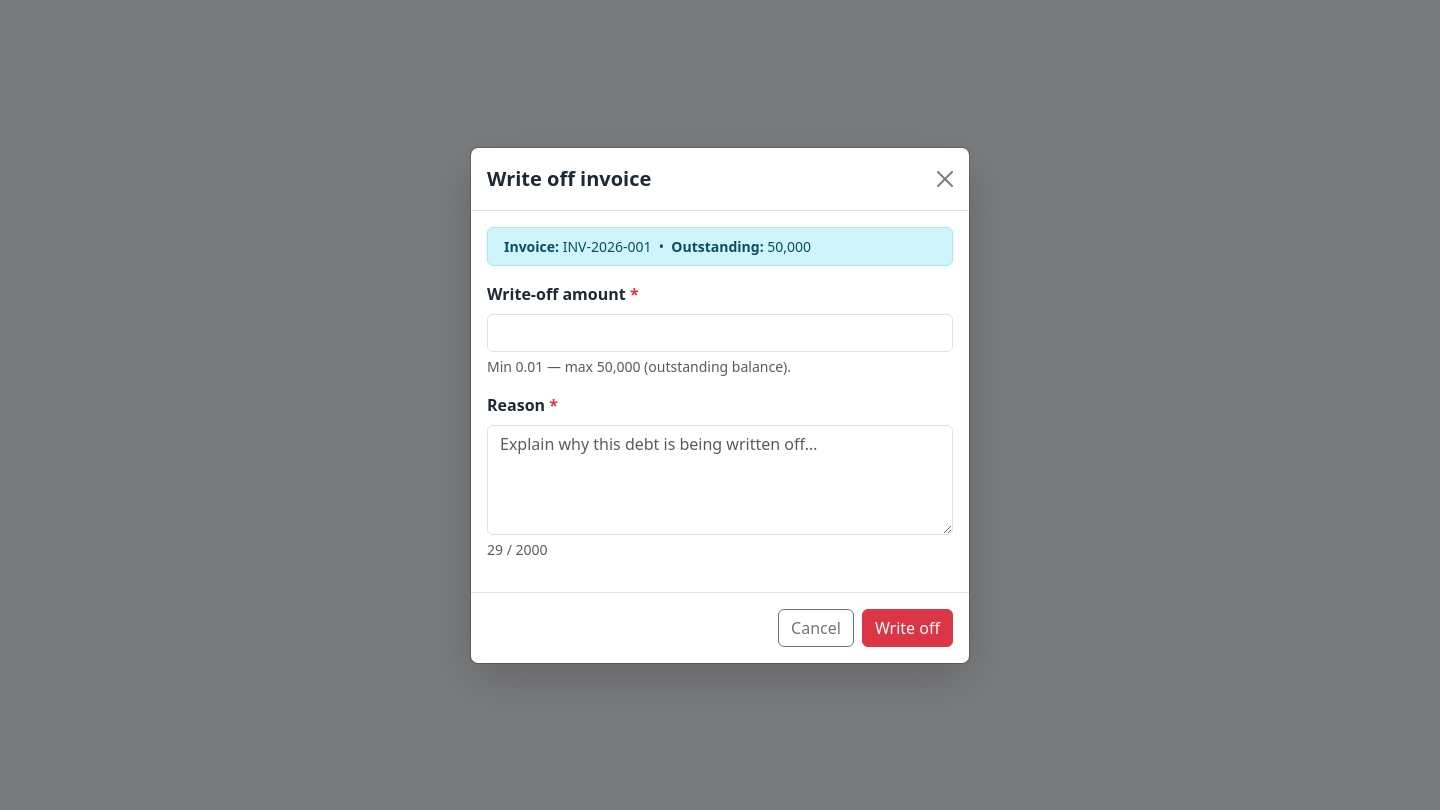
DebtWriteOffModalComponent › successful submission › shows auto-posted success message when status is POSTED
Click the submit button at (907, 628), box [862,608,953,646]
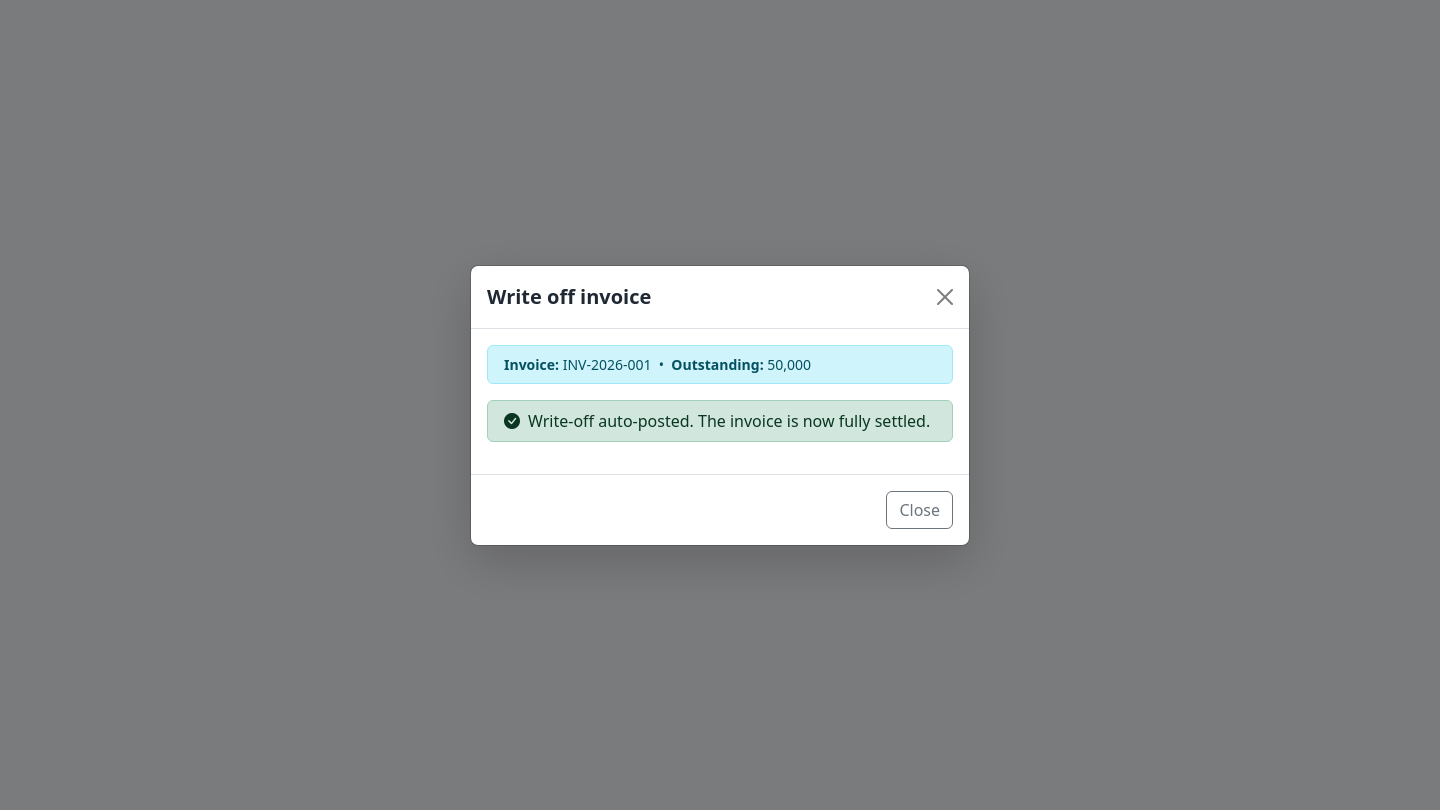
Check: the text "auto-posted" is shown, box [528,410,930,432]
